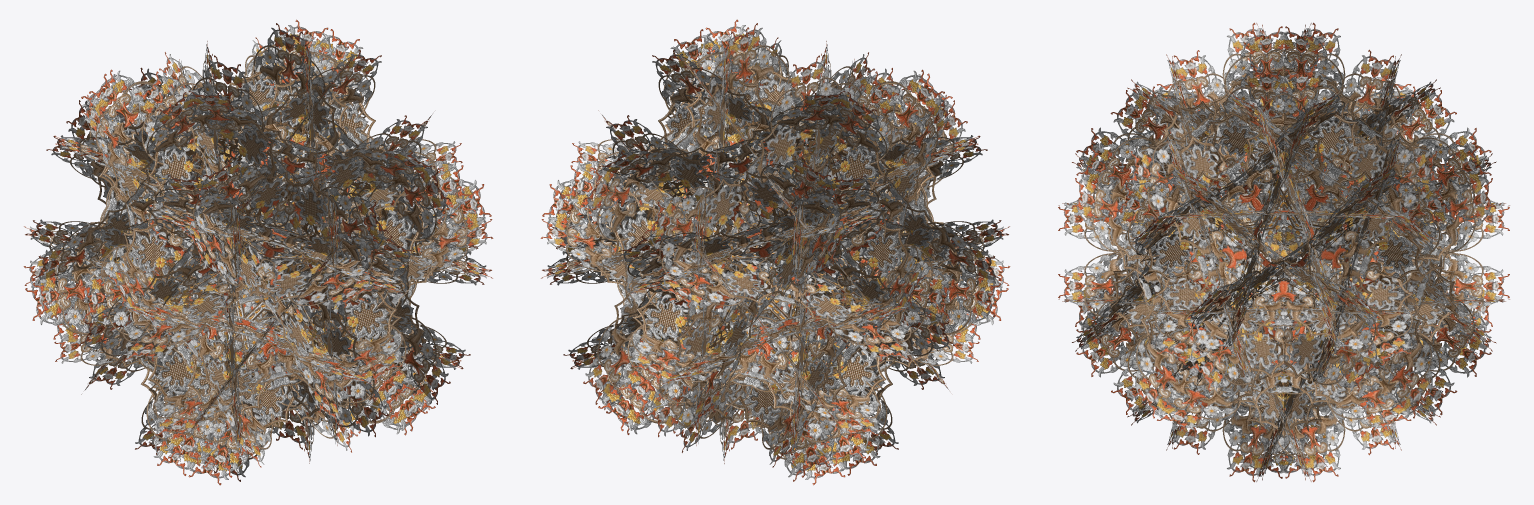
The model's file is GreatTruncatedIcosidodecahedron11.gltf.
The picture shows the model from 3 angles, left to right: view 1: azimuth 30°, elevation 25°; view 2: azimuth 150°, elevation 25°; view 3: azimuth 270°, elevation 25°; orthographic projection. The views are drawn at different scales.
Parts seen in each view (by area): view 1: GreatTruncatedIcosidodecahedron; view 2: GreatTruncatedIcosidodecahedron; view 3: GreatTruncatedIcosidodecahedron.
Part boxes in pixels (box(x1,y1,x2,y2)): GreatTruncatedIcosidodecahedron: box(23, 19, 493, 485); GreatTruncatedIcosidodecahedron: box(540, 19, 1010, 485); GreatTruncatedIcosidodecahedron: box(1058, 22, 1509, 482).
Size of the model in its own units: 2 by 2 by 2.
Materials: 1 (1 with a texture image).
